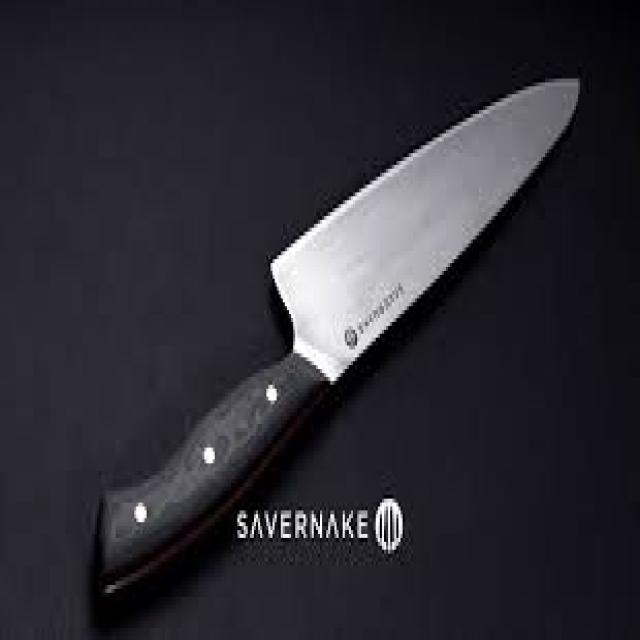knives: (89, 63, 584, 616)
